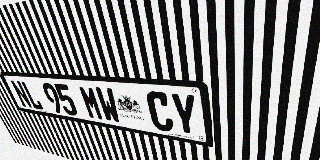5: (53, 83, 79, 116)
9: (40, 82, 66, 114)
C: (145, 91, 175, 133)
L: (20, 81, 44, 110)
M: (78, 85, 105, 121)
N: (10, 80, 33, 109)
W: (94, 87, 122, 124)
Y: (169, 92, 199, 137)
